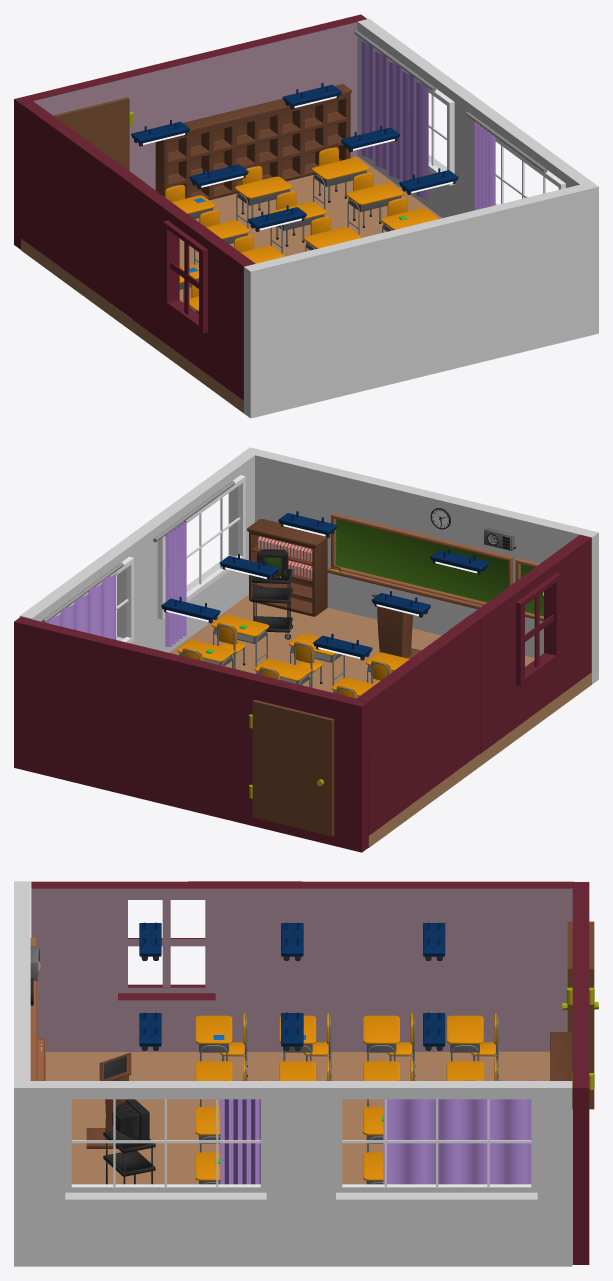
Rendered from class.glb.
3 renders of one model, top to bottom at view 1: azimuth 30°, elevation 25°; view 2: azimuth 150°, elevation 25°; view 3: azimuth 270°, elevation 25°, orthographic. The views are drawn at different scales.
Parts seen in each view (by area): view 1: demoscene_10; view 2: demoscene_10; view 3: demoscene_10.
Boxes of the visible parts, x1,y1,x2,y2 form: demoscene_10: (14, 14, 598, 418); demoscene_10: (14, 447, 598, 852); demoscene_10: (14, 881, 598, 1266).
Size of the model in its own units: 8.91 by 3.54 by 10.51.
Materials: 9 (2 with a texture image).
